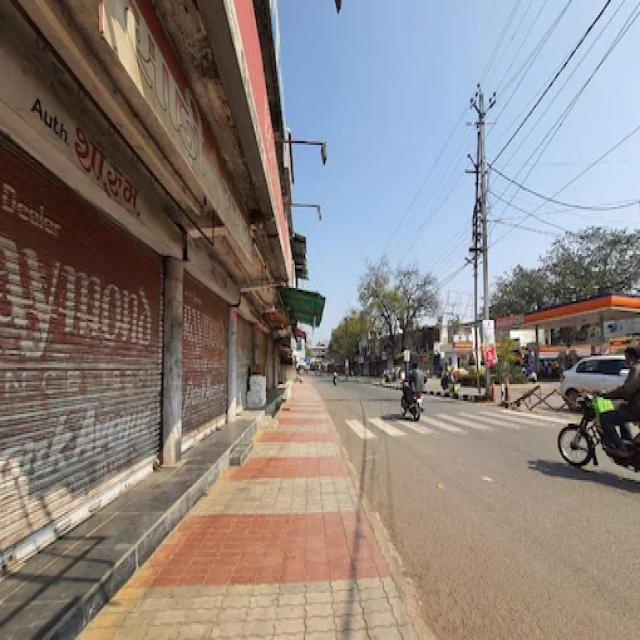Clean road: (0, 352, 640, 640)
